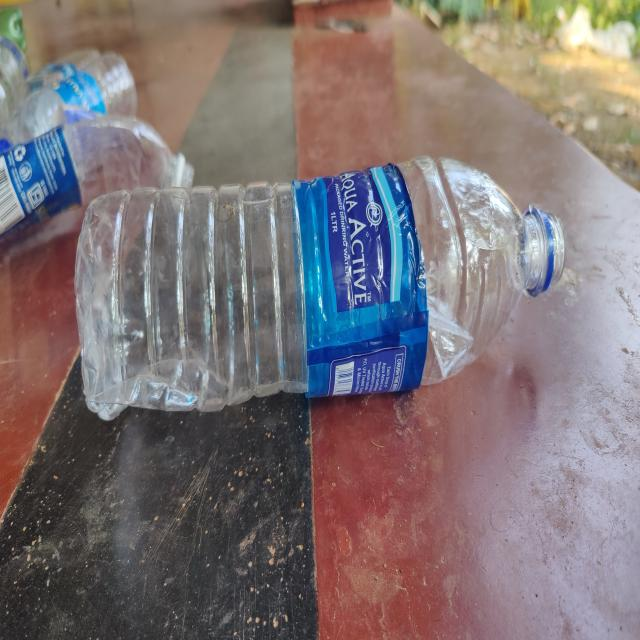plastic: (76, 158, 566, 400), (11, 49, 141, 130)
